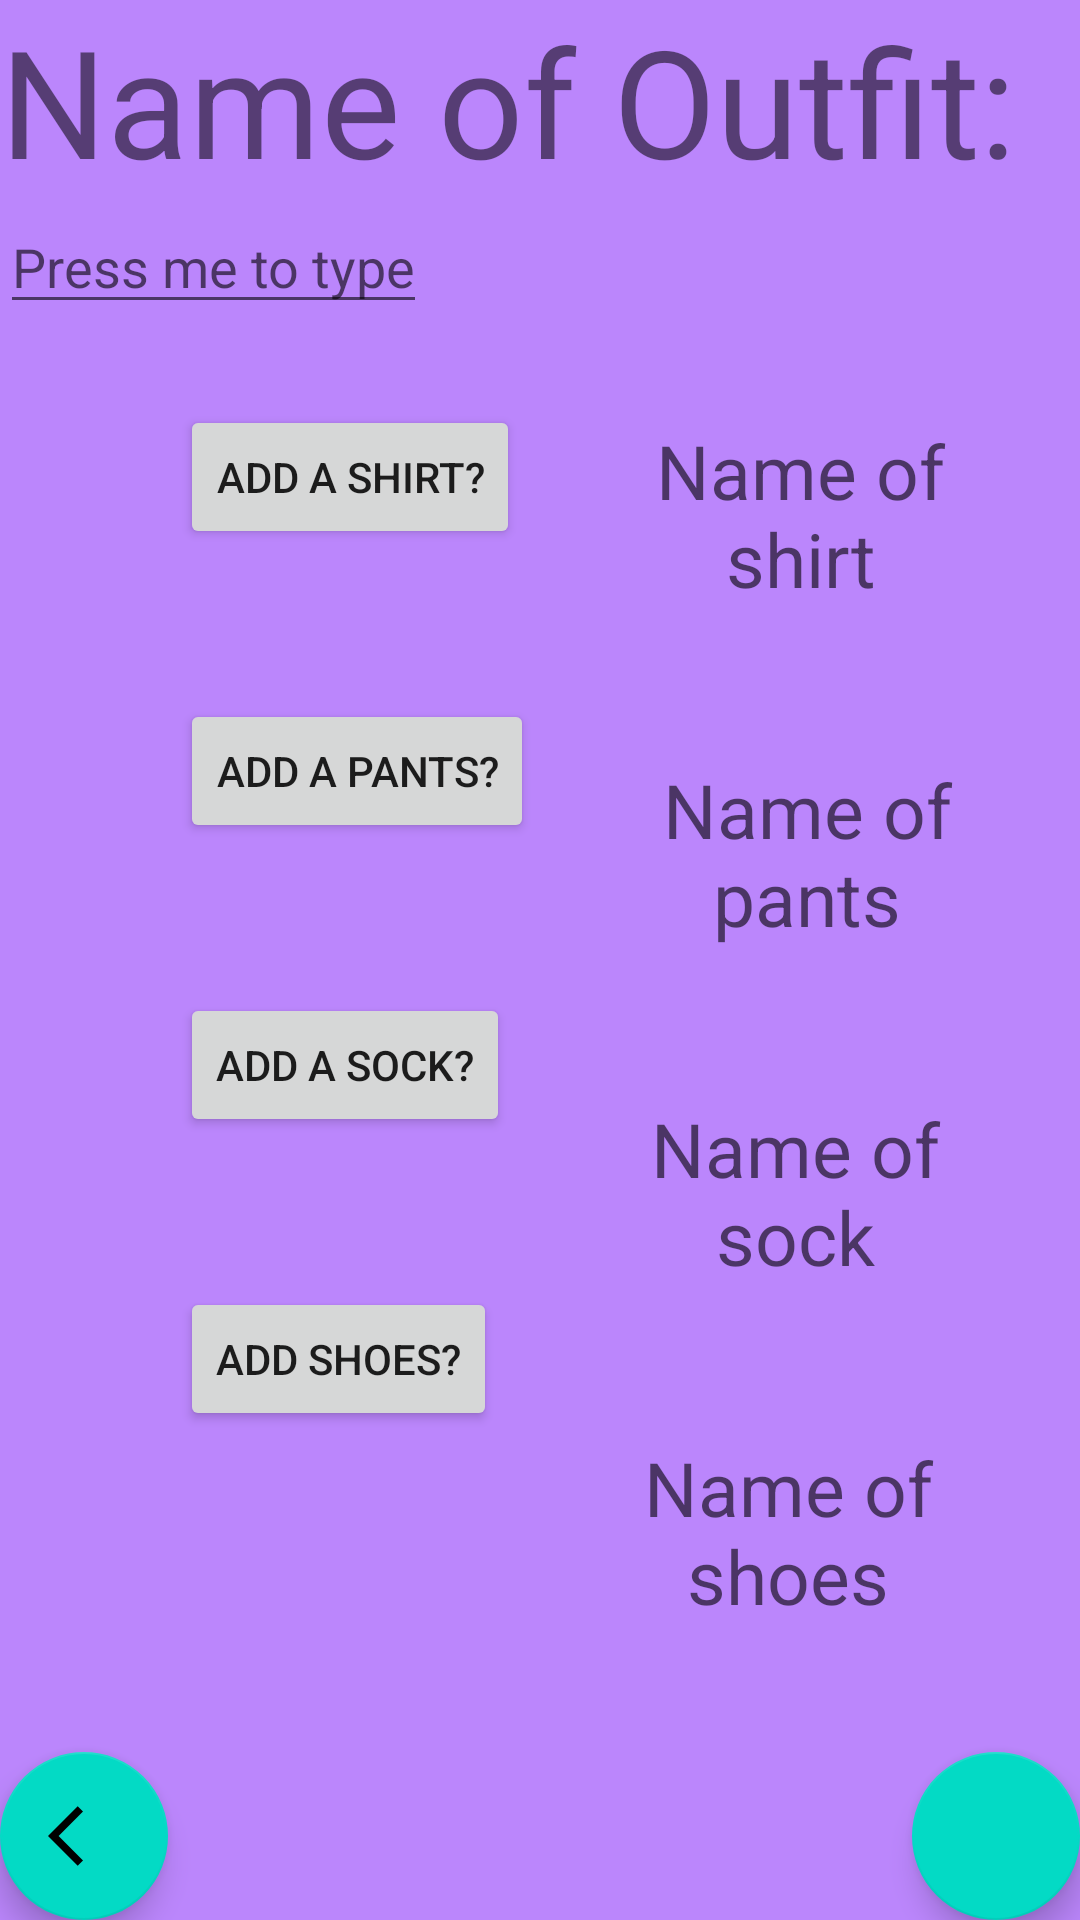

Named icons in this screenshot (1080px×1920px) and their bounding boxes, (x1, y1, x2, y2):
previous: (0, 1752, 168, 1920)
